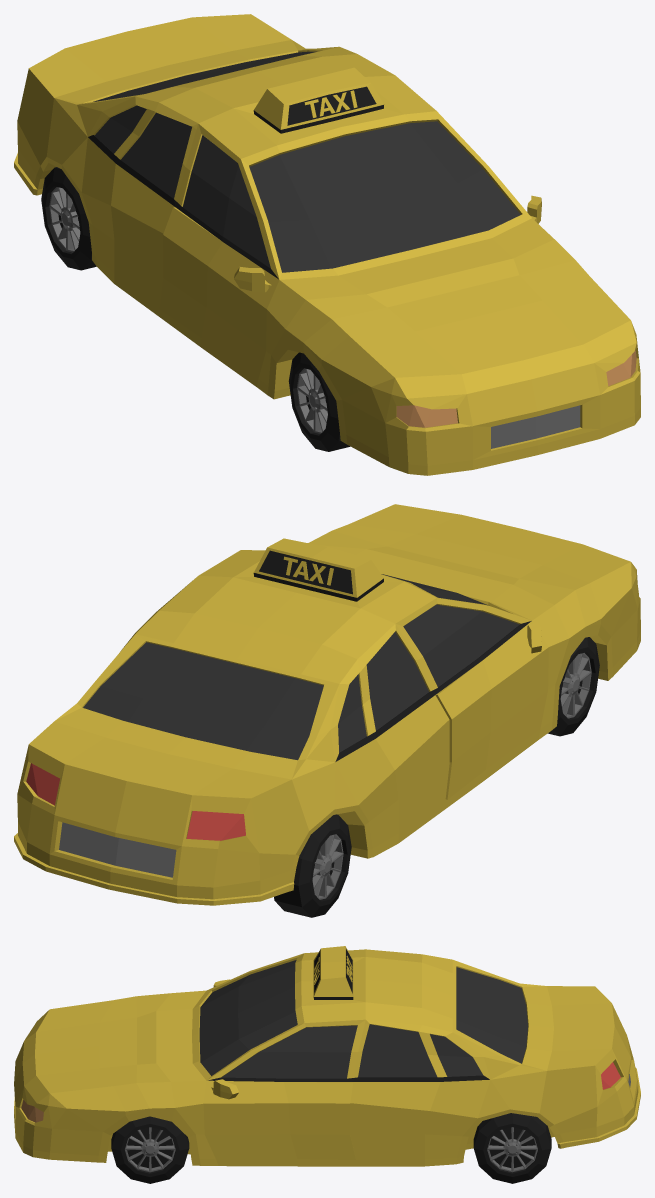
File: taxi-sedan.glb
3 renders of one model, top to bottom at view 1: azimuth 30°, elevation 25°; view 2: azimuth 150°, elevation 25°; view 3: azimuth 270°, elevation 25°, orthographic. The views are drawn at different scales.
Visible parts, largest first — view 1: taxi-sedan; view 2: taxi-sedan; view 3: taxi-sedan.
Boxes of the visible parts, bbox=[...] form: taxi-sedan: bbox=[14, 14, 640, 475]; taxi-sedan: bbox=[14, 504, 640, 917]; taxi-sedan: bbox=[14, 946, 640, 1183].
Size of the model in its own units: 1.95 by 1.46 by 4.7.
